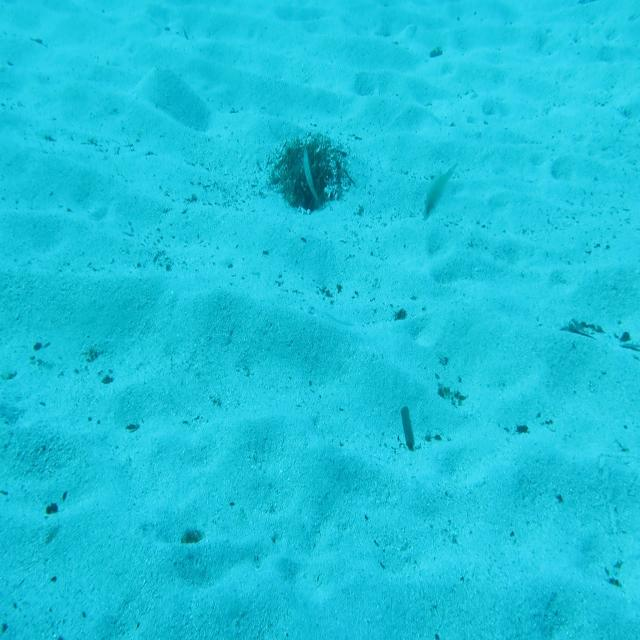FAN: (301, 148, 322, 210)
female: (422, 160, 459, 223)
nest: (266, 134, 354, 218)
vegetation: (399, 403, 418, 456), (554, 319, 604, 339), (178, 529, 206, 552), (426, 45, 443, 60)
